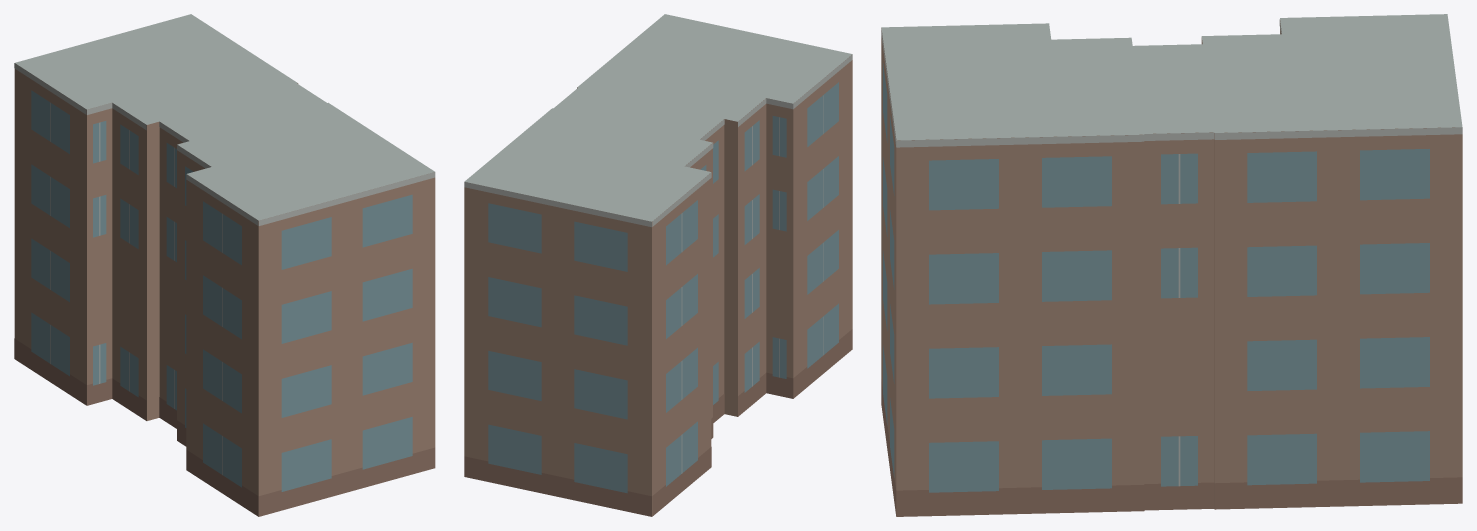
The model's file is survey-upis-33012820.glb.
3 views of the same model, side by side, from view 1: azimuth 30°, elevation 25°; view 2: azimuth 150°, elevation 25°; view 3: azimuth 270°, elevation 25° (orthographic). The views are drawn at different scales.
Visible parts, largest first — view 1: survey-upis-33012820.tmp; view 2: survey-upis-33012820.tmp; view 3: survey-upis-33012820.tmp.
Part boxes in pixels (x1,y1,x2,y2): survey-upis-33012820.tmp: (14, 14, 435, 516); survey-upis-33012820.tmp: (464, 14, 852, 516); survey-upis-33012820.tmp: (881, 14, 1462, 516).
Size of the model in its own units: 9.34 by 12.94 by 18.12.
